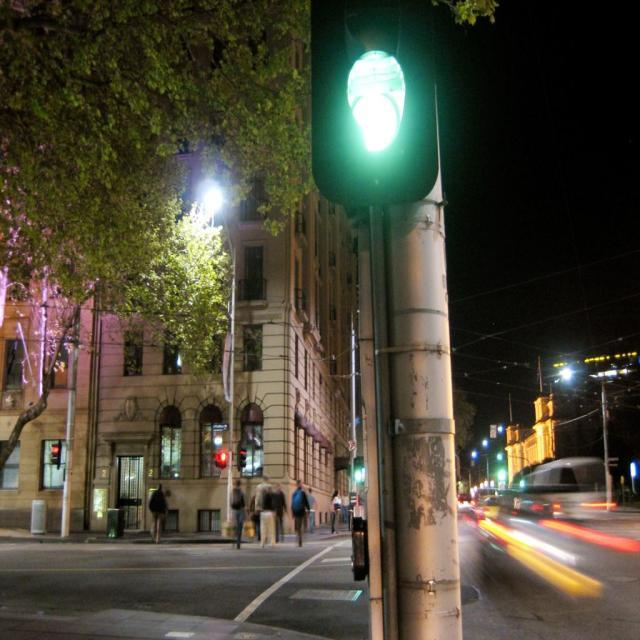traffic light: (310, 1, 438, 206), (51, 440, 64, 470), (237, 442, 248, 474), (356, 462, 363, 484)
